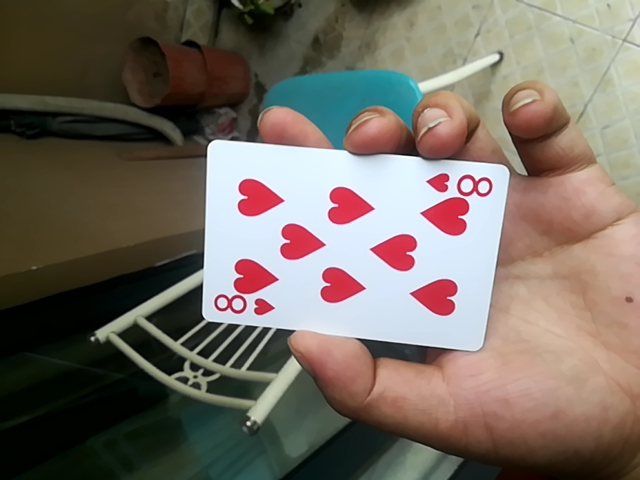hx 8: (197, 138, 511, 350)
